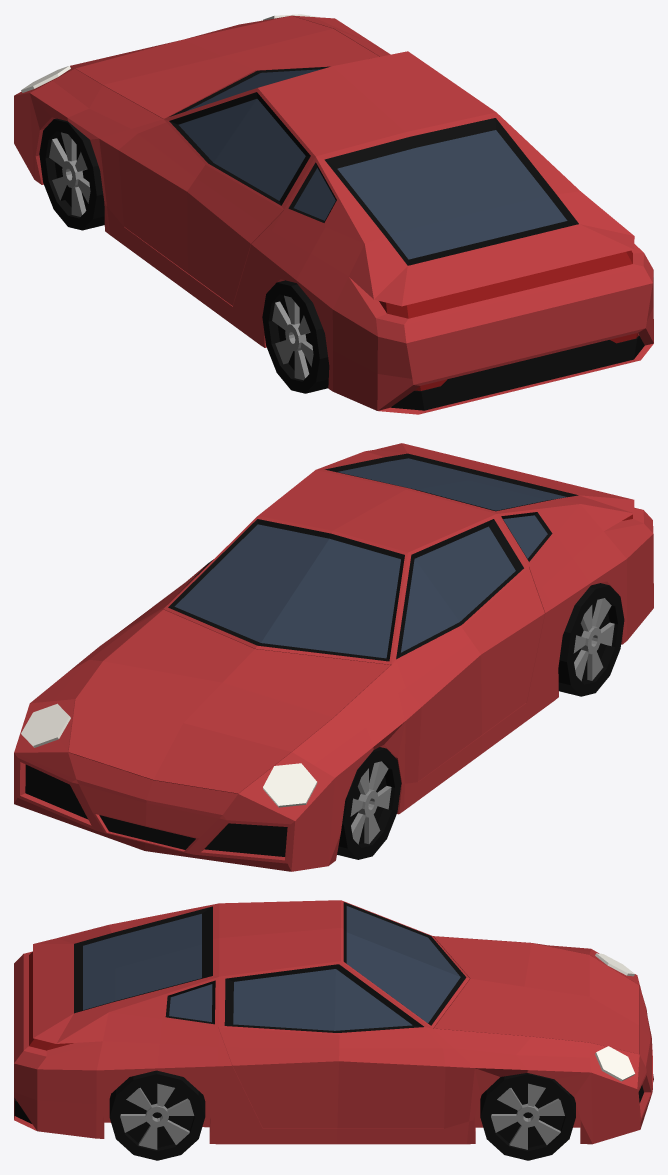
File: Car Red.fbx
3 views of the same model, one above another, from view 1: azimuth 30°, elevation 25°; view 2: azimuth 150°, elevation 25°; view 3: azimuth 270°, elevation 25° (orthographic). The views are drawn at different scales.
Parts seen in each view (by area): view 1: Car, Back Tire, Front Tire; view 2: Car, Back Tire, Front Tire; view 3: Car, Back Tire, Front Tire.
Boxes of the visible parts, x1,y1,x2,y2 form: Car: (14, 14, 653, 414); Back Tire: (262, 280, 329, 393); Front Tire: (39, 118, 104, 230); Car: (14, 443, 653, 871); Back Tire: (558, 583, 624, 696); Front Tire: (337, 747, 401, 859); Car: (14, 900, 653, 1144); Back Tire: (109, 1070, 205, 1160); Front Tire: (480, 1073, 575, 1160).
Size of the model in its own units: 208 by 134 by 454.
